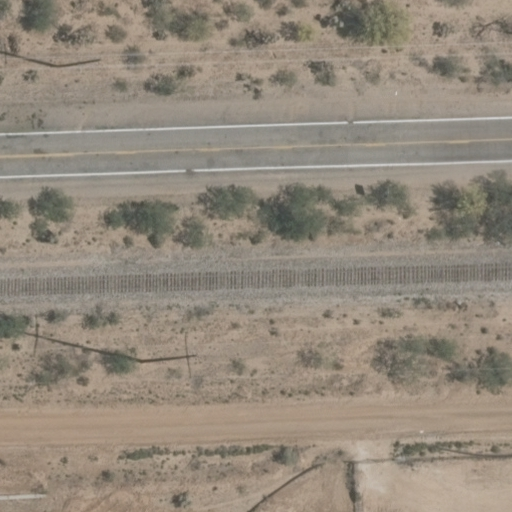DT: (142, 343, 202, 362), (50, 52, 107, 70)
